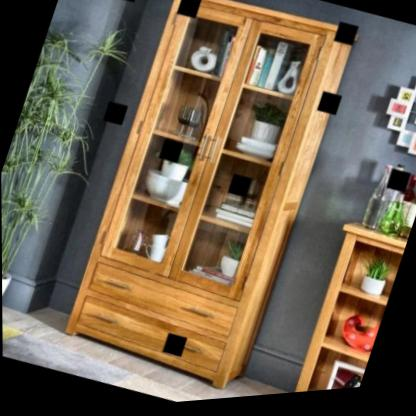Cupboard: (57, 0, 350, 404)
